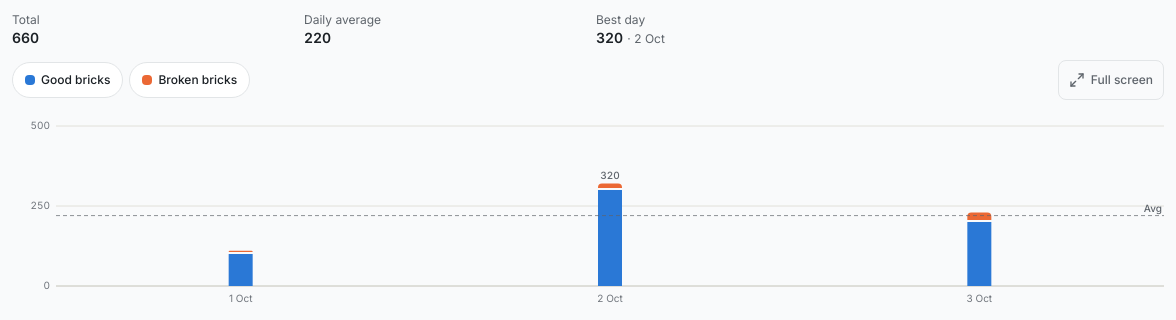
Scenario: ColumnChart › hides a series from the legend but never the last one
Click the button with aria-label "Hide Broken bricks". click: (190, 80)
box: [129, 62, 250, 98]
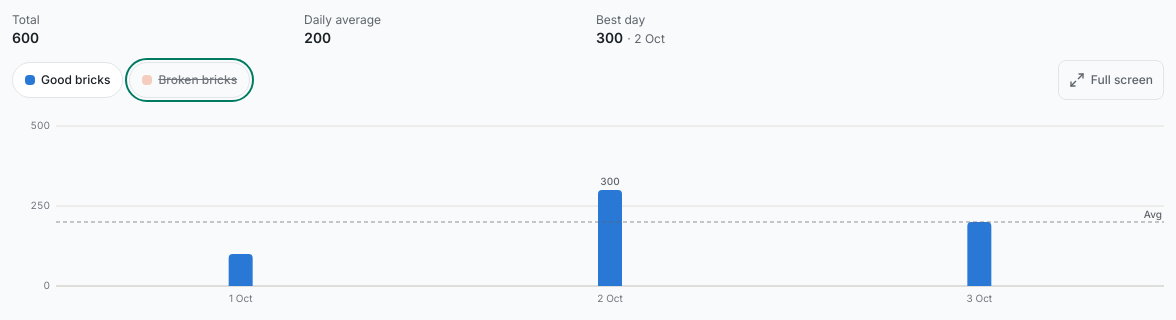
Expected: the button with aria-label "Hide Good bricks" is disabled, [12, 62, 123, 98]
Expected: the text "600" is shown, [12, 29, 39, 46]
